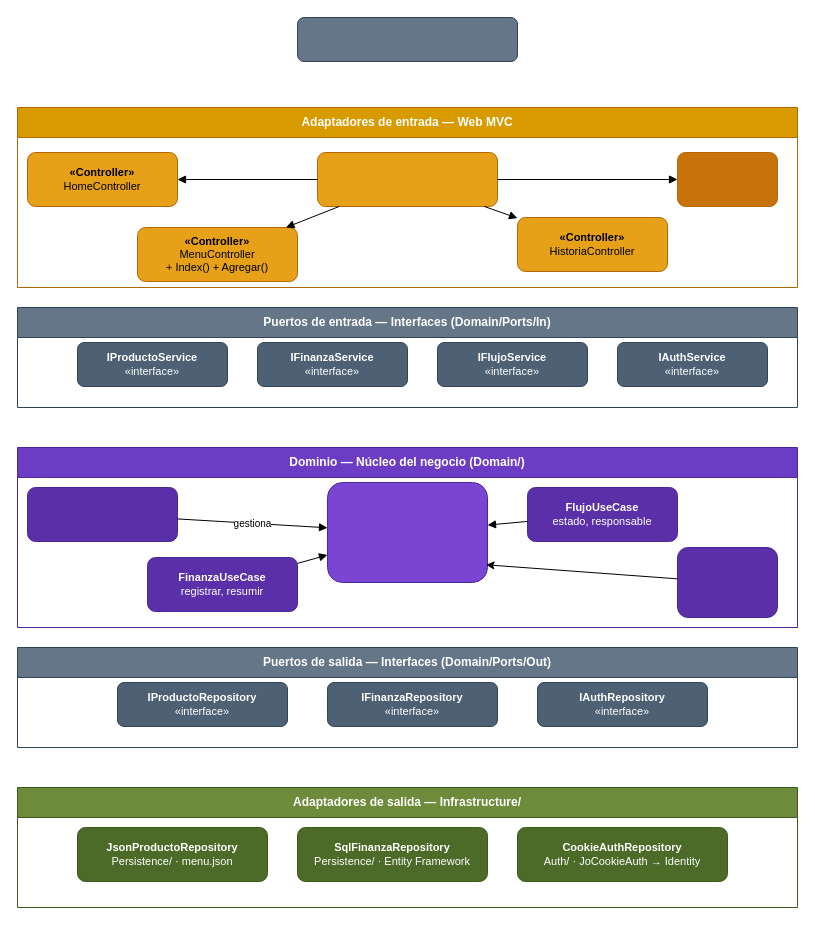
This 815x925 diagram has some shape labels left out. The centre of each missing label's shape, as x and y in pixels:
"Administrador o usuario final" goes at (407,39).
"Ports/Out IProductoRepo IFinanzaRepo" goes at (727,582).
"ProductoUseCase CRUD, validaciones" goes at (102,514).
"Program.cs Middleware, DI, rutas" goes at (407,179).
"«Controller» Admin LoginController GestionController" goes at (727,179).
"«Model» Entidades + Producto + Finanza + FlujoDeTrabajo" goes at (407,532).
